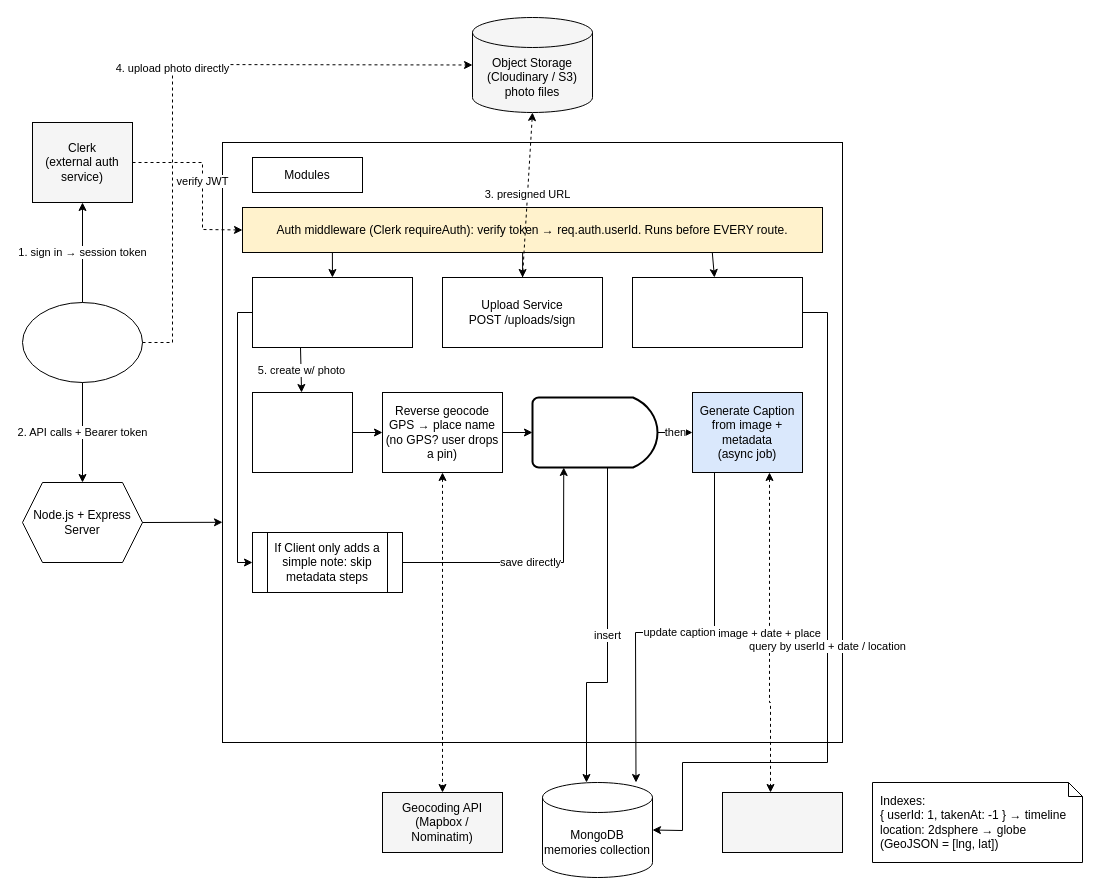
Some shapes in this 1100 by 895 pixel diagram are drawn without their labels. Here are the shapes that lost their labels. From the top down, the box of each, then its label:
(252, 276, 412, 348): Memories API POST / PATCH / DELETE /memories
(632, 276, 802, 348): Read API GET /memories (timeline) GET /memories/map (globe)
(22, 302, 142, 382): React Client
(252, 392, 352, 472): Upload Picture convert to metadata (EXIF: date + GPS)
(531, 396, 658, 468): Save Memory to user ID from Clerk (captionStatus: pending)
(722, 792, 842, 852): Vision AI model (Claude / GPT)
